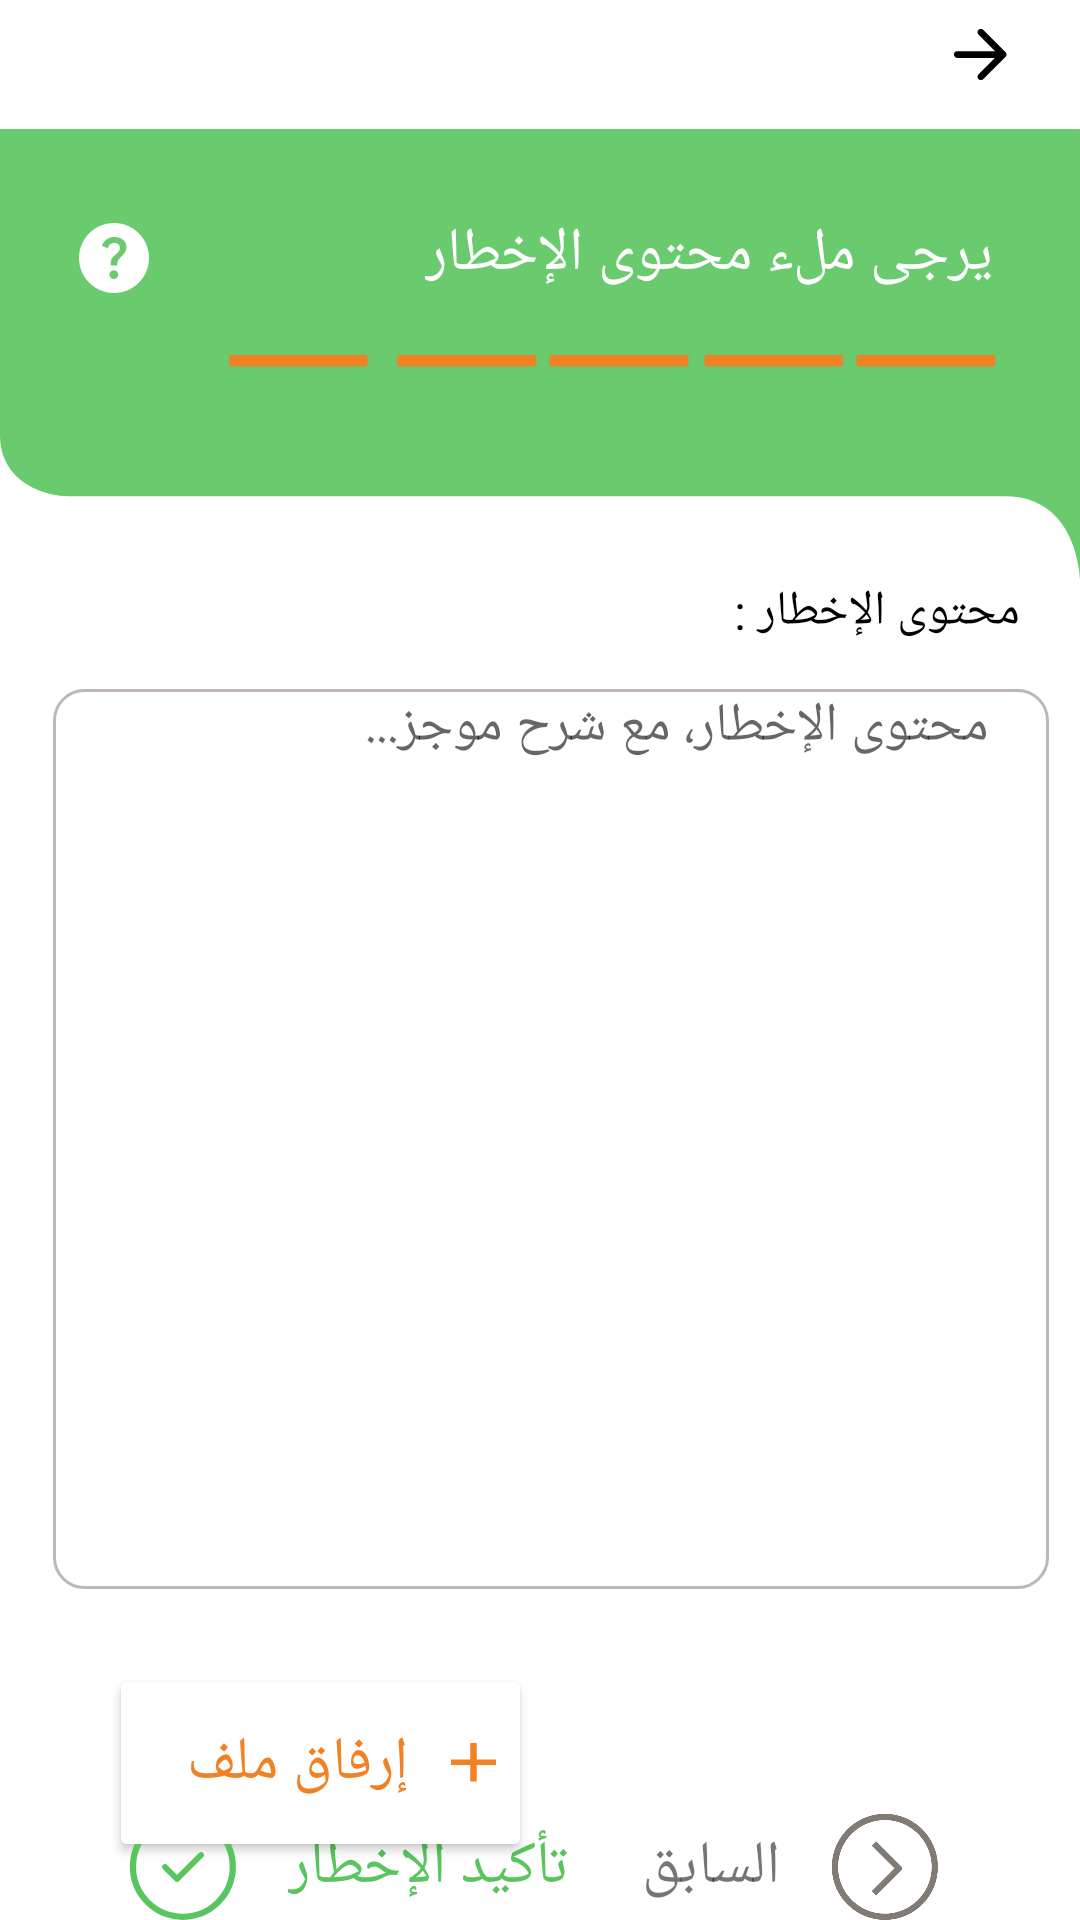

Screen size 1080x1920. Icon name, then its box in pixels as rect(x1, y1, x2, y2):
question: rect(79, 223, 149, 293)
